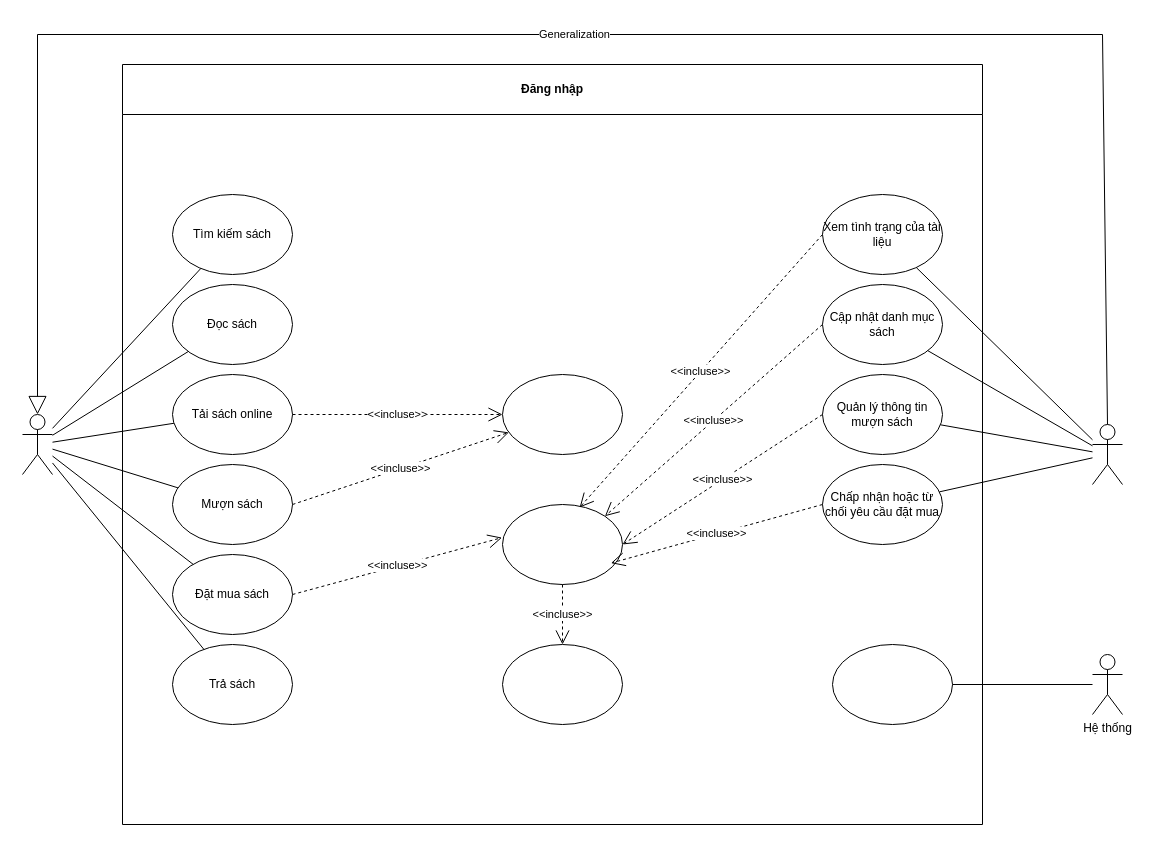
Image size: 1149x842. Some labels were removed from this diagram. Here are the shapes that lost their labels. From the top down, the centre of each, then its label:
(562,414): Nhập Mã thẻ thư viện
(37,444): Độc giả
(1107,454): Thủ thư
(562,544): Đăng nhập tài khoản
(562,684): Đăng ký tài khoản
(892,684): Gửi mail thông báo
